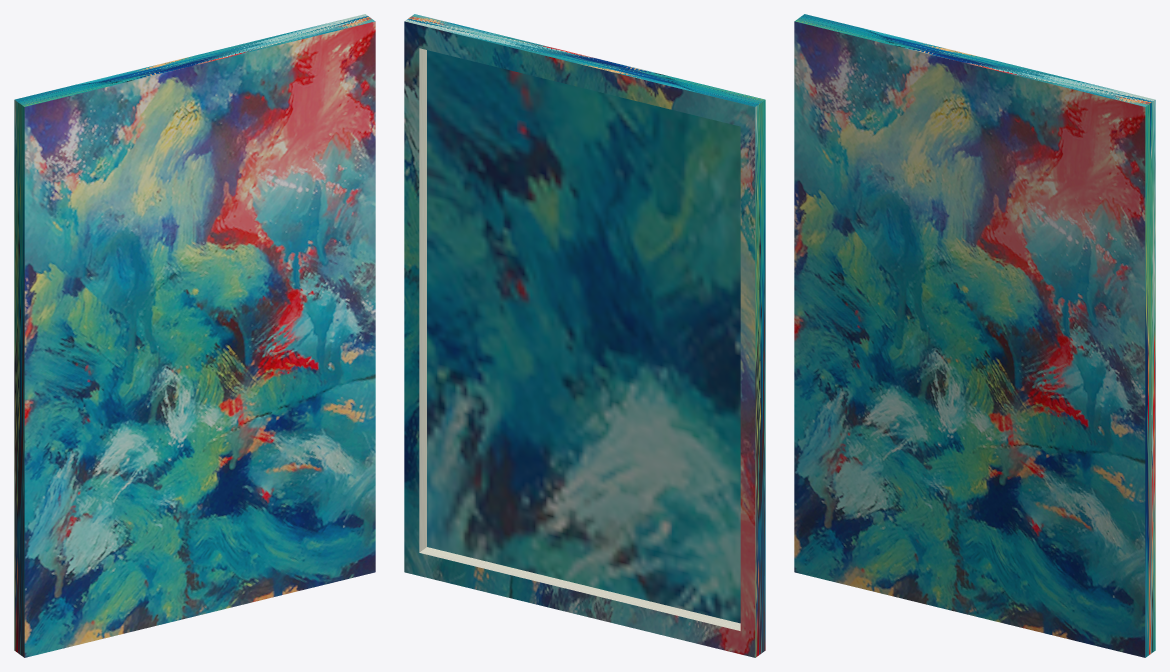
File: Picture_2.fbx
3 views of the same model, side by side, from view 1: azimuth 30°, elevation 25°; view 2: azimuth 150°, elevation 25°; view 3: azimuth 330°, elevation 25° (orthographic).
Parts seen in each view (by area): view 1: Picture_2; view 2: Picture_2; view 3: Picture_2.
Part boxes in pixels (x1=…): Picture_2: x1=14, y1=14, x2=375, y2=657; Picture_2: x1=404, y1=14, x2=765, y2=657; Picture_2: x1=794, y1=14, x2=1155, y2=657.
Bounding box in the file's own units: 40 × 60 × 2.
